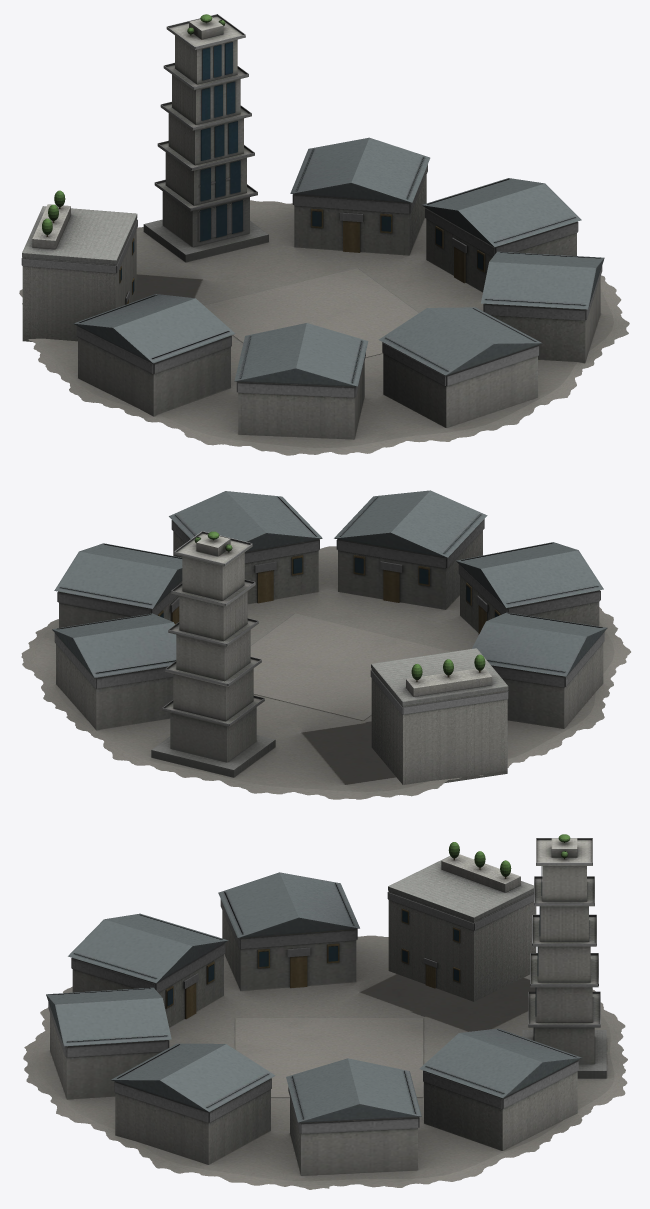
The model's file is modern-town-small-a-monsoon.glb.
The picture shows the model from 3 angles, top to bottom: view 1: azimuth 30°, elevation 25°; view 2: azimuth 150°, elevation 25°; view 3: azimuth 270°, elevation 25°; orthographic projection.
Parts seen in each view (by area): view 1: LOD0; view 2: LOD0; view 3: LOD0.
Boxes of the visible parts, x1,y1,x2,y2 form: LOD0: [19, 14, 629, 455]; LOD0: [21, 490, 630, 799]; LOD0: [23, 834, 627, 1189].
Size of what is drawn, in the model's own units: 3.96 by 1.6 by 3.97.
3 materials, 3 textured.
